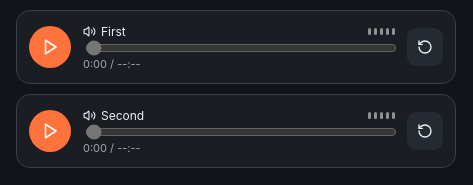
Test case: 0.1.4a completion › plays only one audio at a time, resets on side change and stops on unmount without autoplay
Click the button named "Play First" at {"x": 50, "y": 47}, box [29,26,71,68]
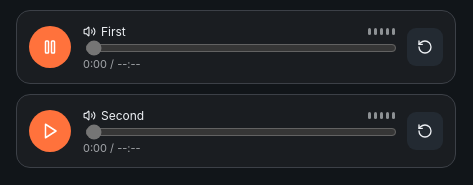
Expected: the button named "Pause First" is shown, [29,26,71,68]
Click the button named "Play Second" at {"x": 50, "y": 131}, box [29,110,71,152]
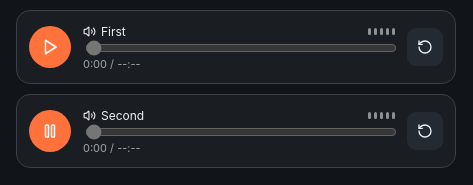
Expected: the button named "Pause Second" is shown, [29,110,71,152]
Expected: the button named "Play First" is shown, [29,26,71,68]
